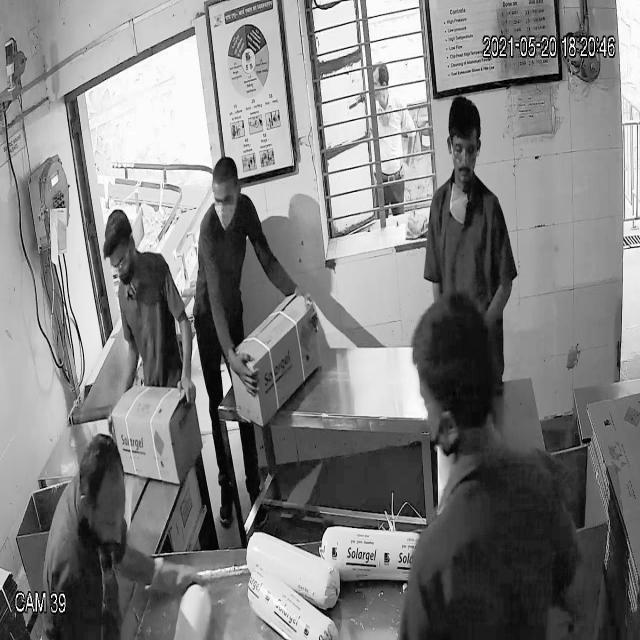hairnet: (74, 520, 127, 571), (114, 252, 137, 284)
